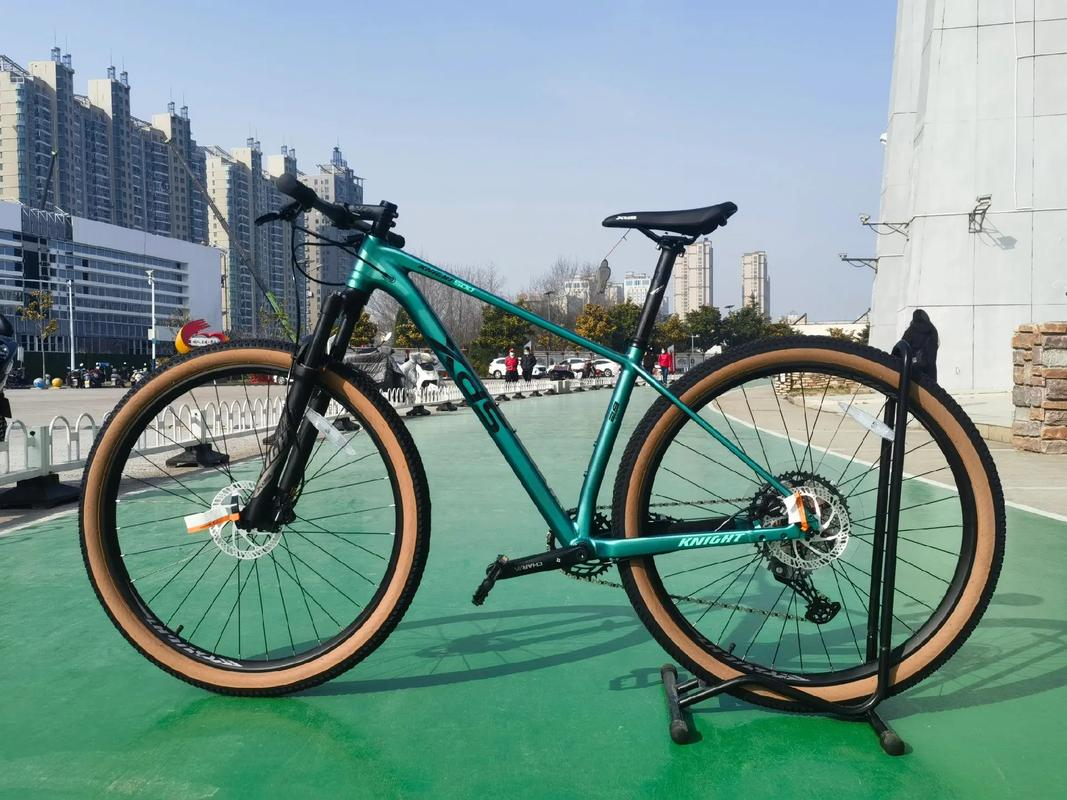单车: (67, 152, 1040, 768)
